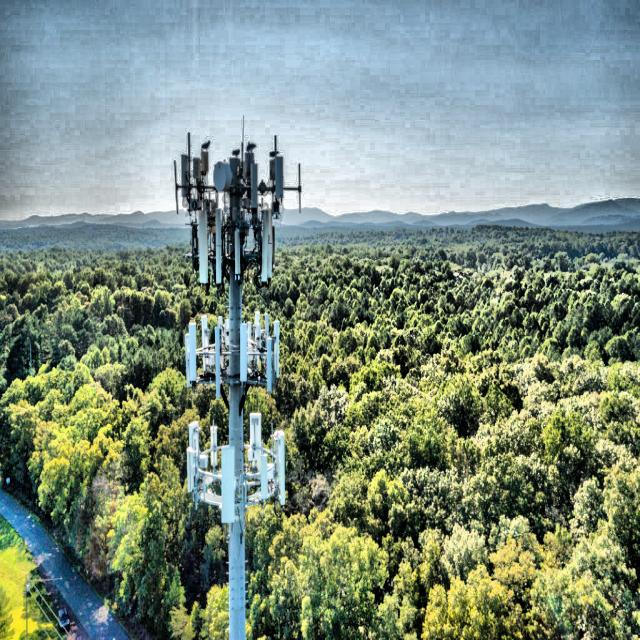antenna: (221, 445, 235, 523), (273, 430, 285, 504), (197, 208, 208, 283), (260, 209, 271, 282), (248, 412, 261, 466), (187, 421, 199, 479), (186, 322, 196, 383), (215, 208, 222, 284), (214, 324, 221, 398), (240, 322, 247, 382), (201, 315, 208, 371), (187, 447, 195, 492), (273, 320, 279, 377), (266, 336, 272, 392), (250, 162, 257, 208), (210, 425, 217, 470), (234, 228, 240, 275)
